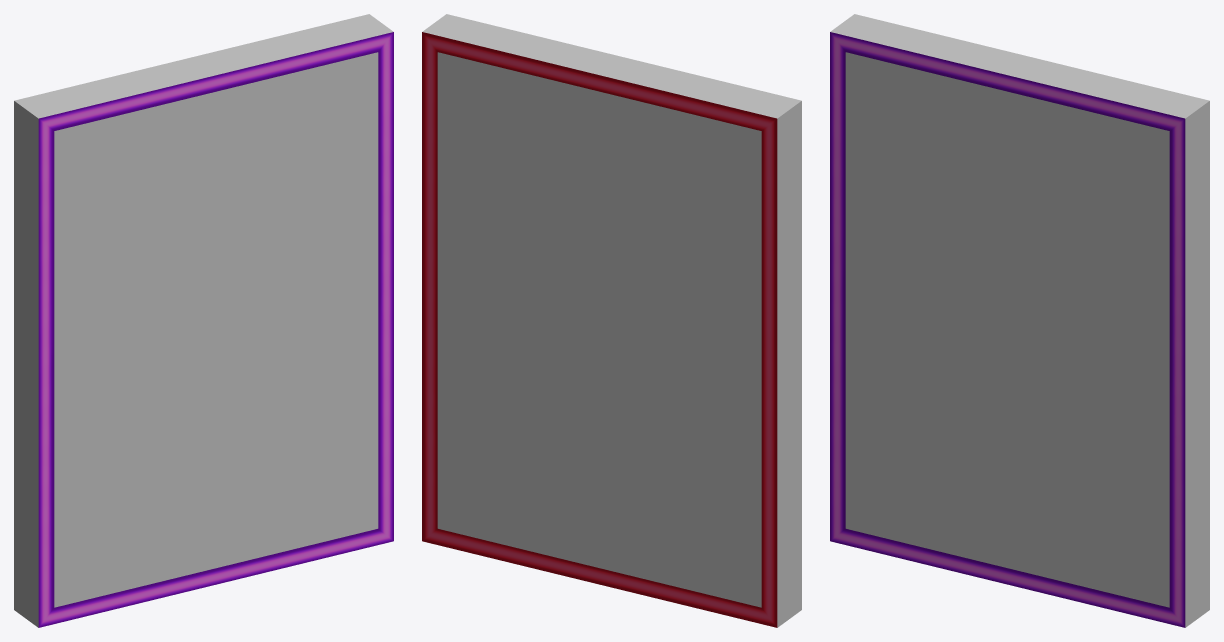
The model's file is sign_01c.fbx.
3 renders of one model, left to right at view 1: azimuth 30°, elevation 25°; view 2: azimuth 150°, elevation 25°; view 3: azimuth 330°, elevation 25°, orthographic.
Visible parts, largest first — view 1: sign_01c; view 2: sign_01c; view 3: sign_01c.
Part boxes in pixels (<box>): sign_01c: <box>14,14,393,627</box>; sign_01c: <box>422,14,801,627</box>; sign_01c: <box>830,14,1209,627</box>.
Bounding box in the file's own units: 1.57 × 2.15 × 0.1878.
